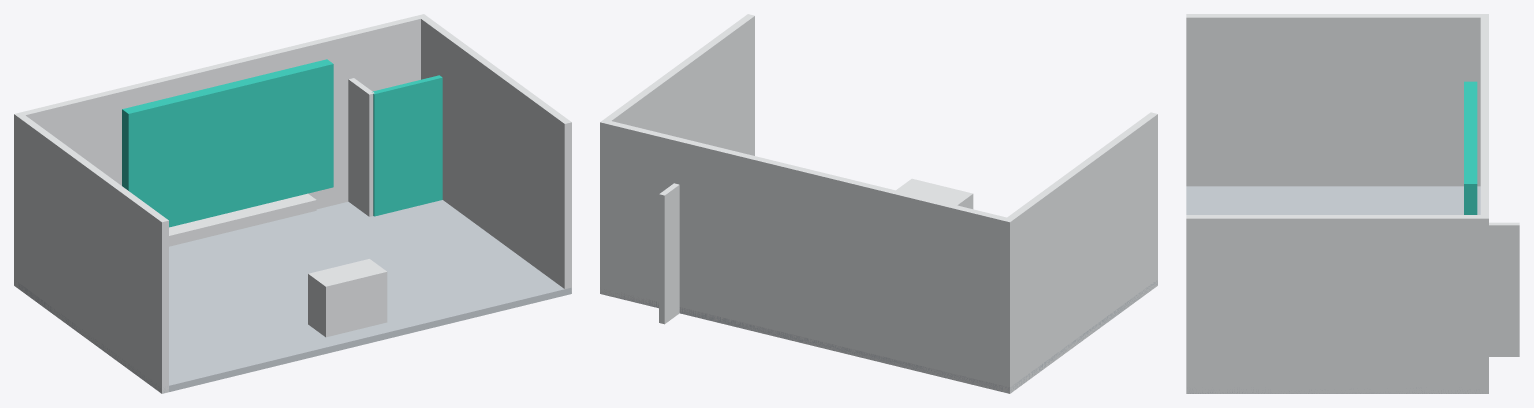
3 views of the same model, side by side, from view 1: azimuth 30°, elevation 25°; view 2: azimuth 150°, elevation 25°; view 3: azimuth 270°, elevation 25° (orthographic). The views are drawn at different scales.
Parts seen in each view (by area): view 1: Exhibition Booth Concept; view 2: Exhibition Booth Concept; view 3: Exhibition Booth Concept.
Boxes of the visible parts, x1,y1,x2,y2 form: Exhibition Booth Concept: (14,14,571,393); Exhibition Booth Concept: (600,14,1157,393); Exhibition Booth Concept: (1186,14,1519,393).
Bounding box in the file's own units: 8 × 3.2 × 5.51.
